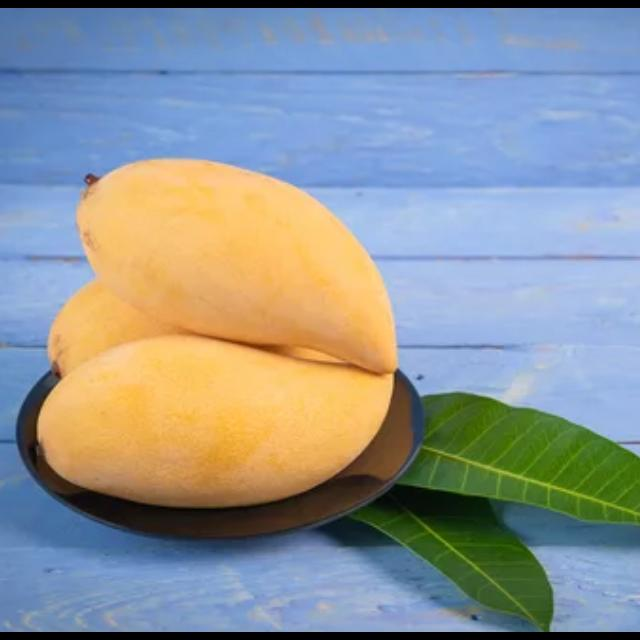mango: (78, 155, 397, 373), (34, 335, 394, 506)
